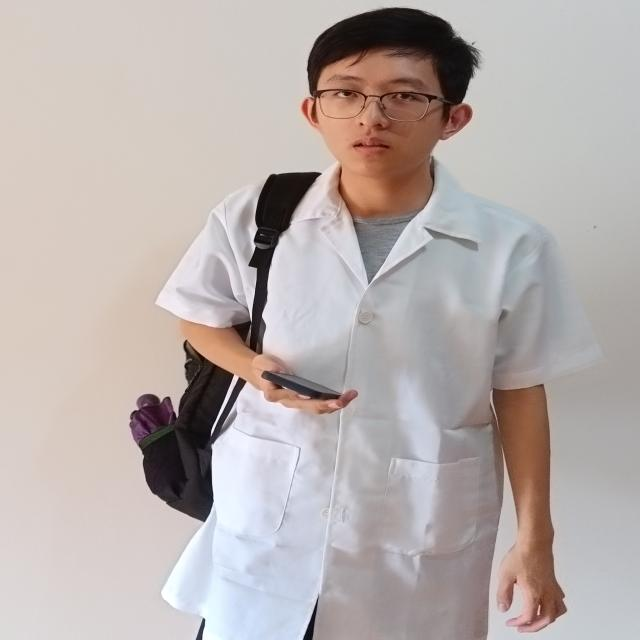person_with_labcoat: (131, 8, 601, 640)
